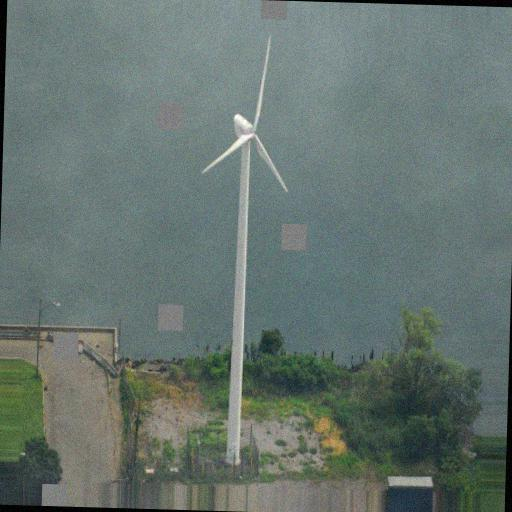wind turbine: (201, 35, 291, 454)
